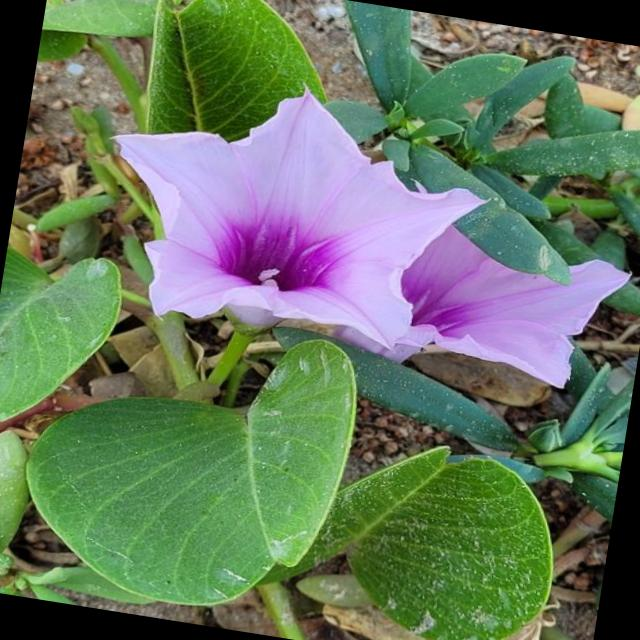ipomoea: (78, 55, 640, 400)
